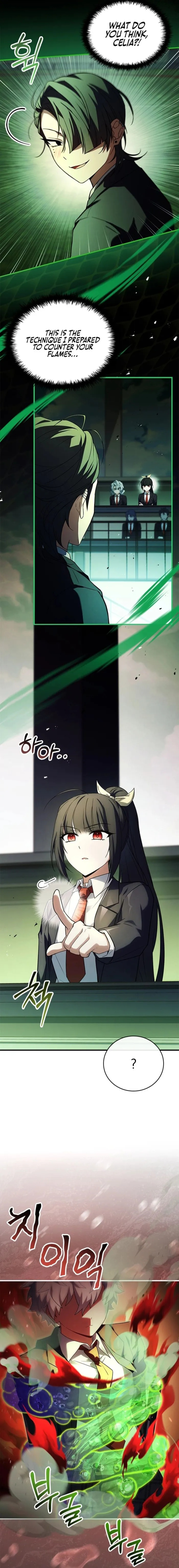bubbles: (5, 292, 117, 393), (80, 1, 172, 72), (103, 1034, 166, 1093)
